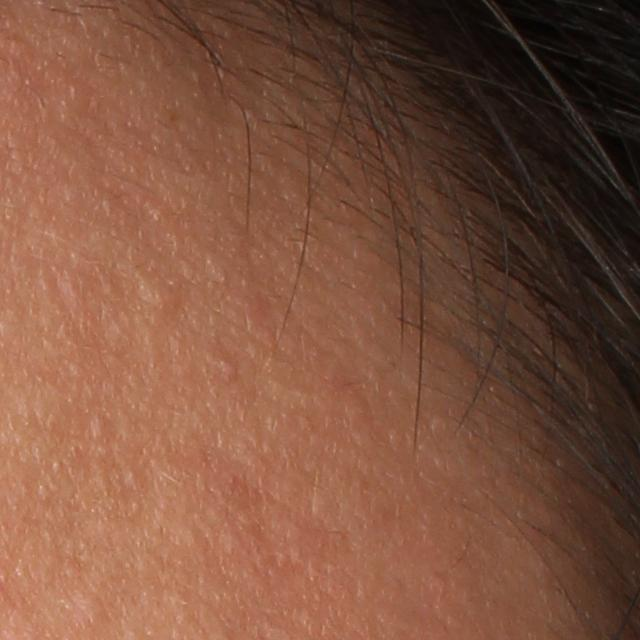comedo: (138, 272, 180, 316), (72, 596, 107, 632), (86, 415, 114, 446), (219, 353, 243, 380)
